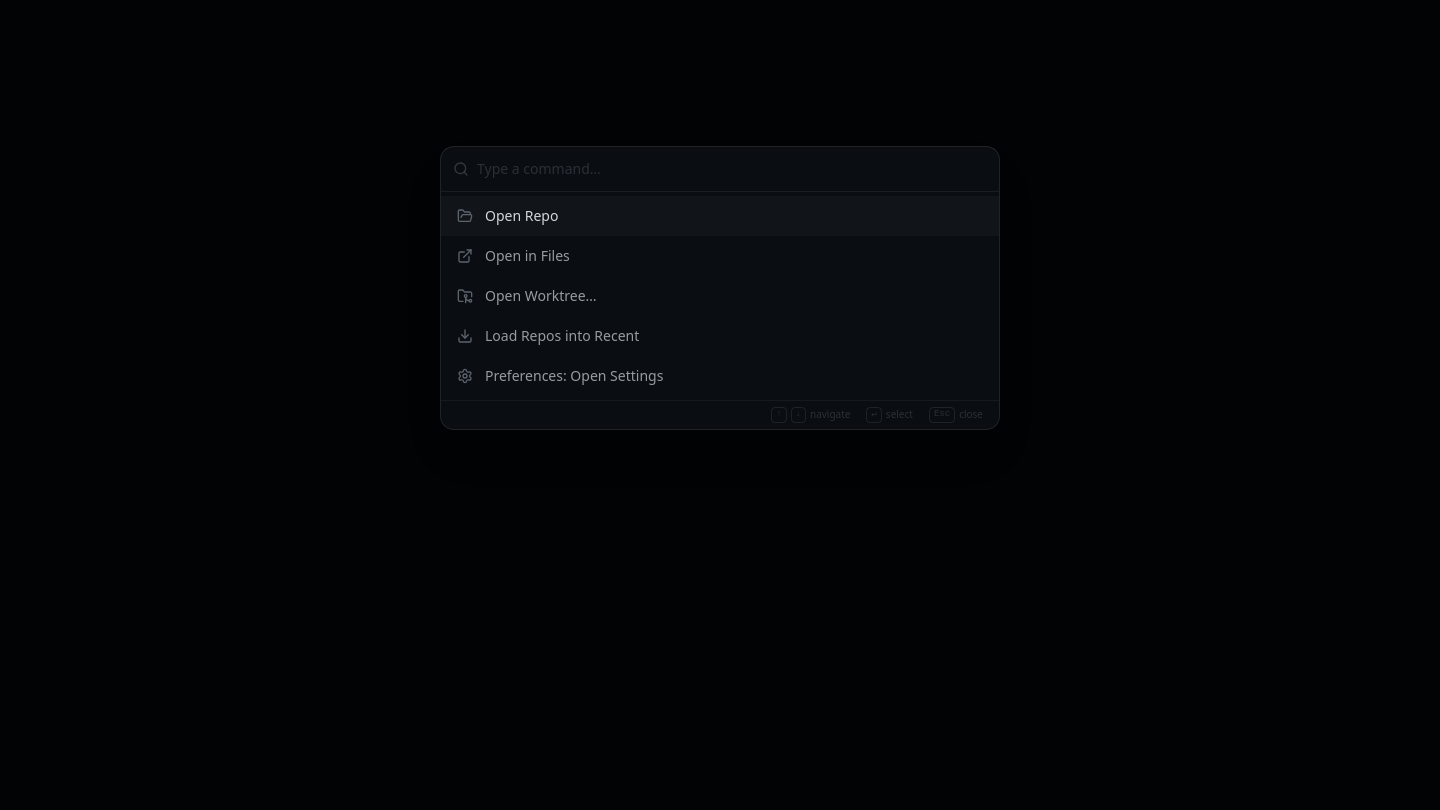
it: CommandPalette › shows the short hash in mono for a detached worktree, and filters by name or branch
Click the button "Open Worktree…".
click(541, 295)  # box [441,276,999,316]
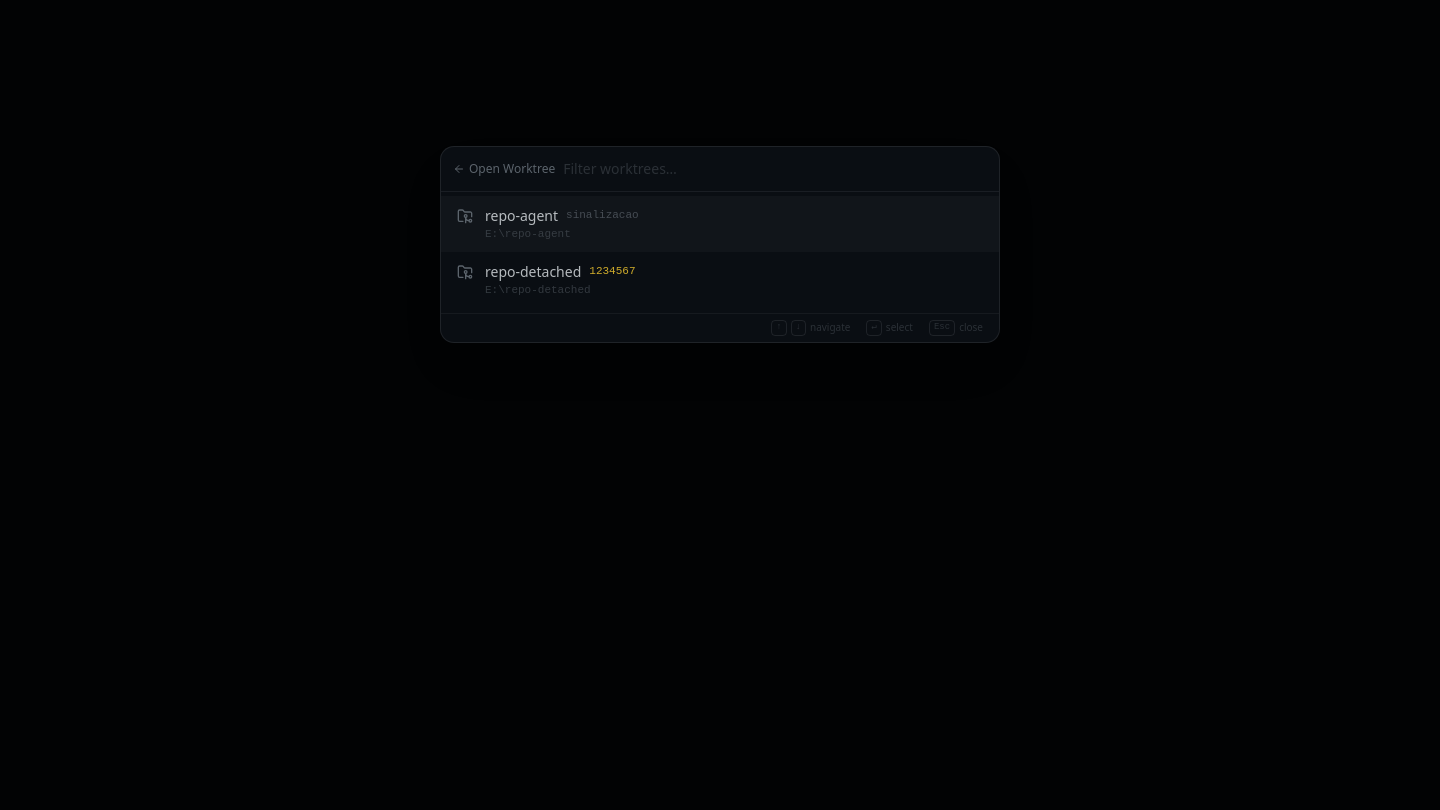
Expected: the text "repo-agent" is shown, [485,206,558,226]
Type "sinal" into the field with placeholder "Filter worktrees…".
click(775, 169); type("sinal")  # box [563,147,987,191]
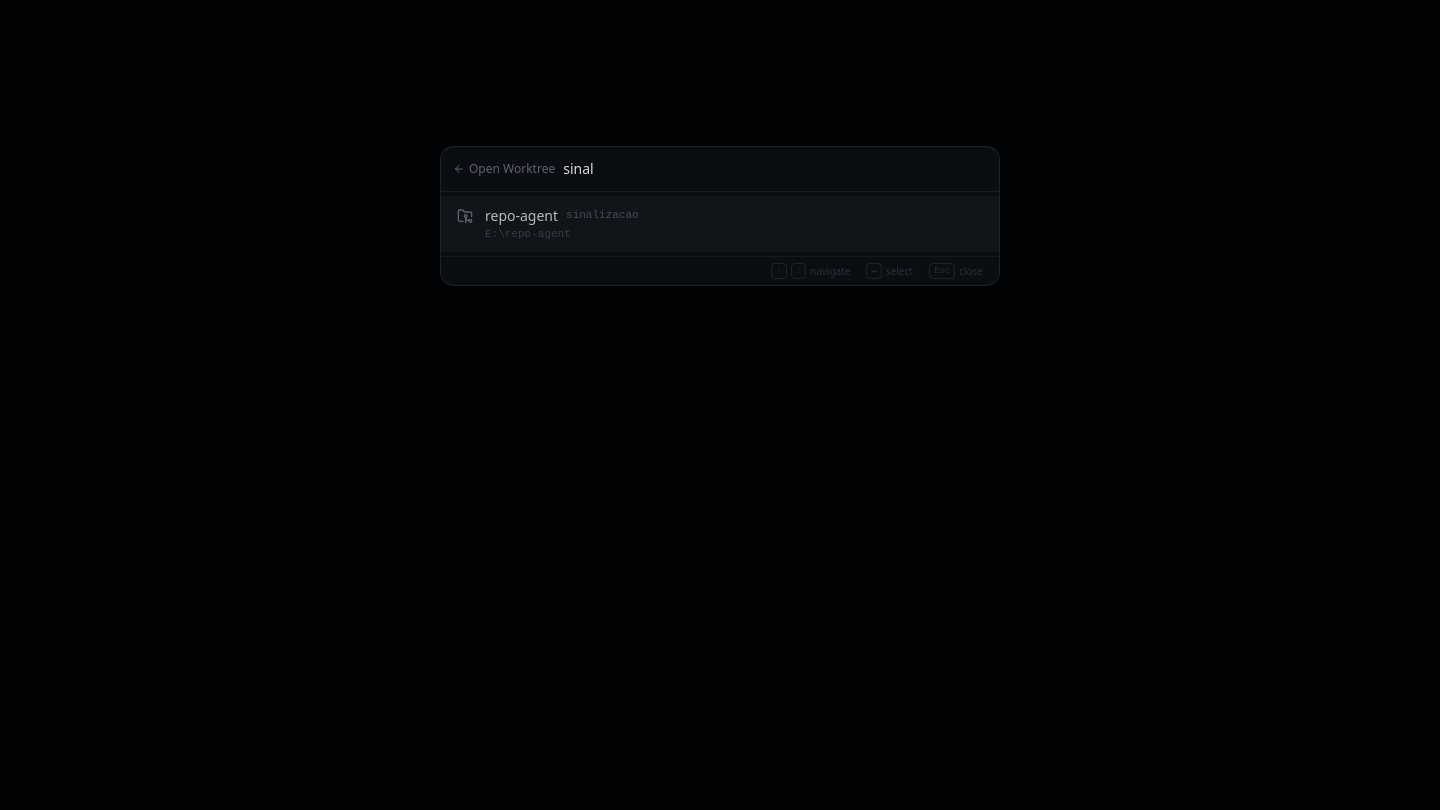
Expected: the text "repo-agent" is shown, [485,206,558,226]
Expected: the button "repo-detached" is gone
